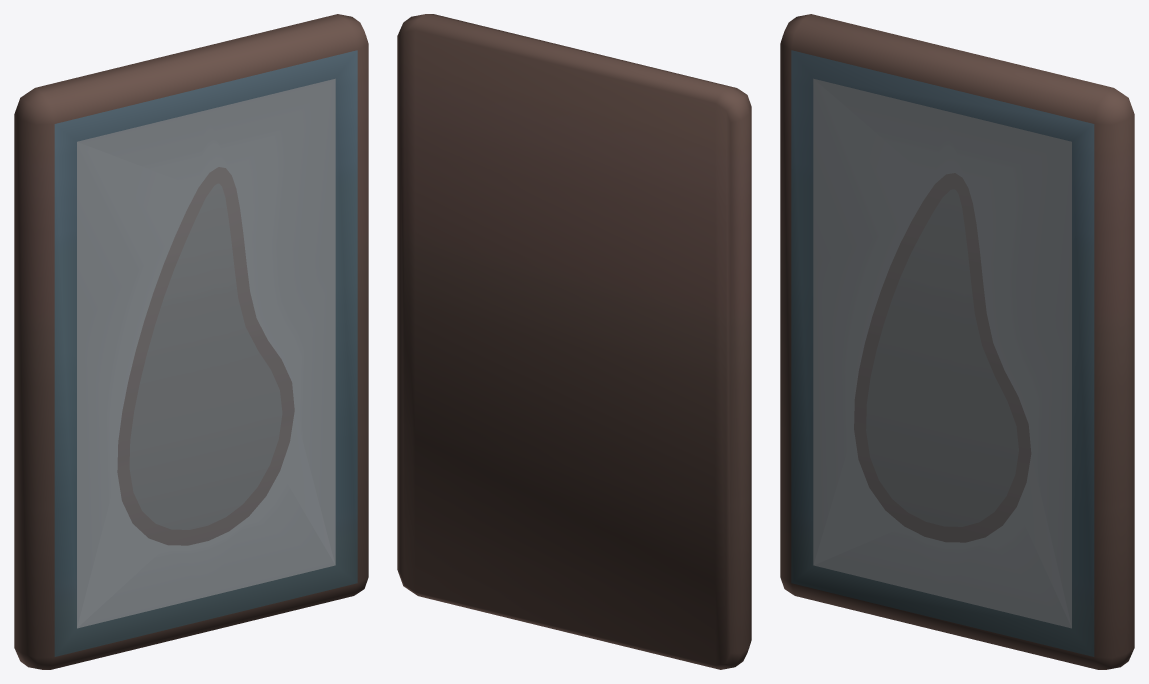
File: Picture_02.glb
3 renders of one model, left to right at view 1: azimuth 30°, elevation 25°; view 2: azimuth 150°, elevation 25°; view 3: azimuth 330°, elevation 25°, orthographic.
Visible parts, largest first — view 1: Picture_02; view 2: Picture_02; view 3: Picture_02.
Boxes of the visible parts, box(x1,y1,x2,y2) form: Picture_02: box(14, 14, 368, 669); Picture_02: box(397, 14, 751, 669); Picture_02: box(780, 14, 1134, 669).
Size of the model in its own units: 0.5 by 0.8 by 0.06.
Materials: 1 (1 with a texture image).
